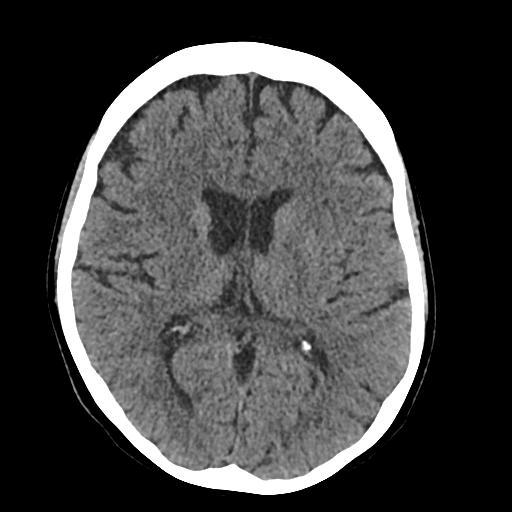Normal_Brain: (38, 37, 448, 494)
